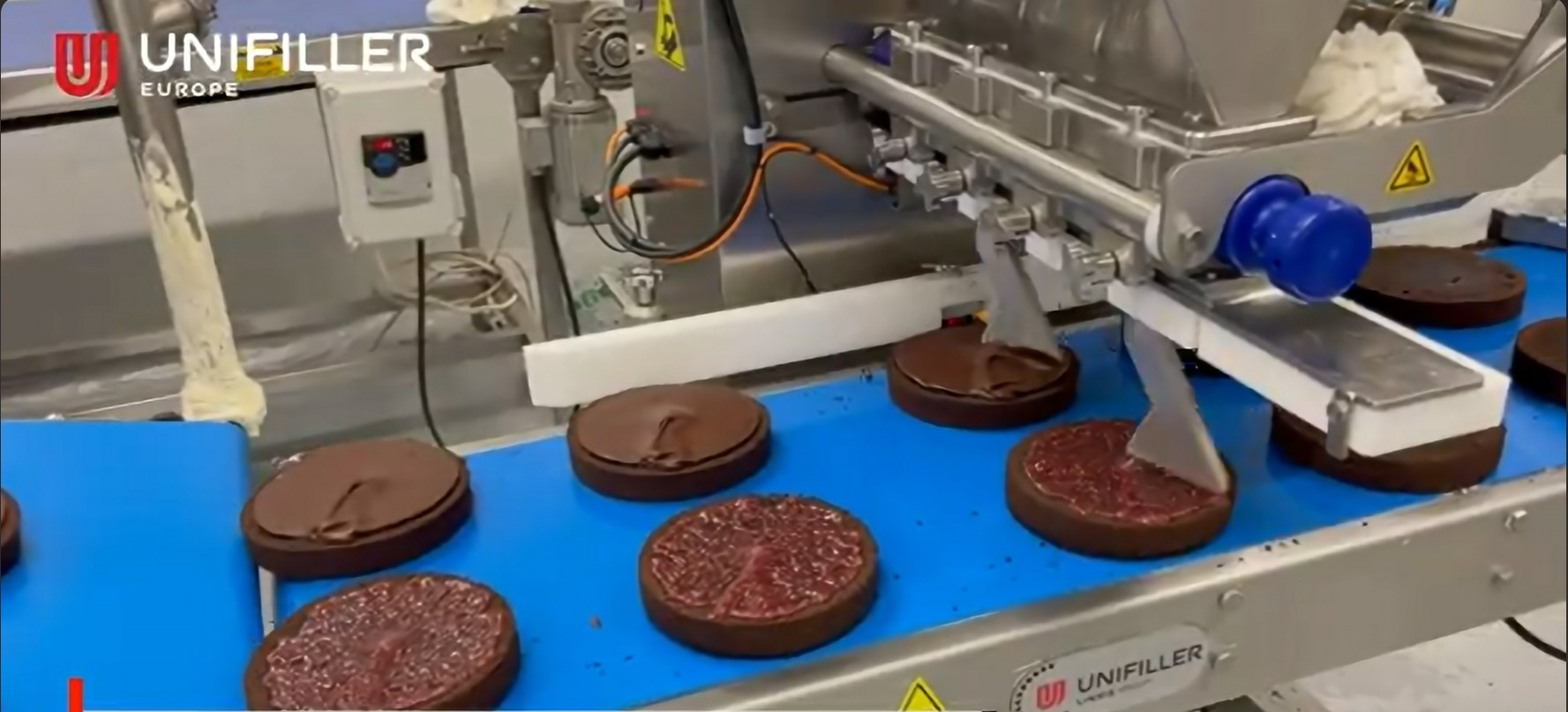Chocolate Cake: (638, 496, 874, 667), (1320, 233, 1527, 323), (1513, 302, 1564, 407)
Chocolate Coated: (243, 576, 516, 712), (232, 435, 471, 576), (1003, 420, 1238, 545), (567, 379, 773, 498), (882, 329, 1080, 424)
